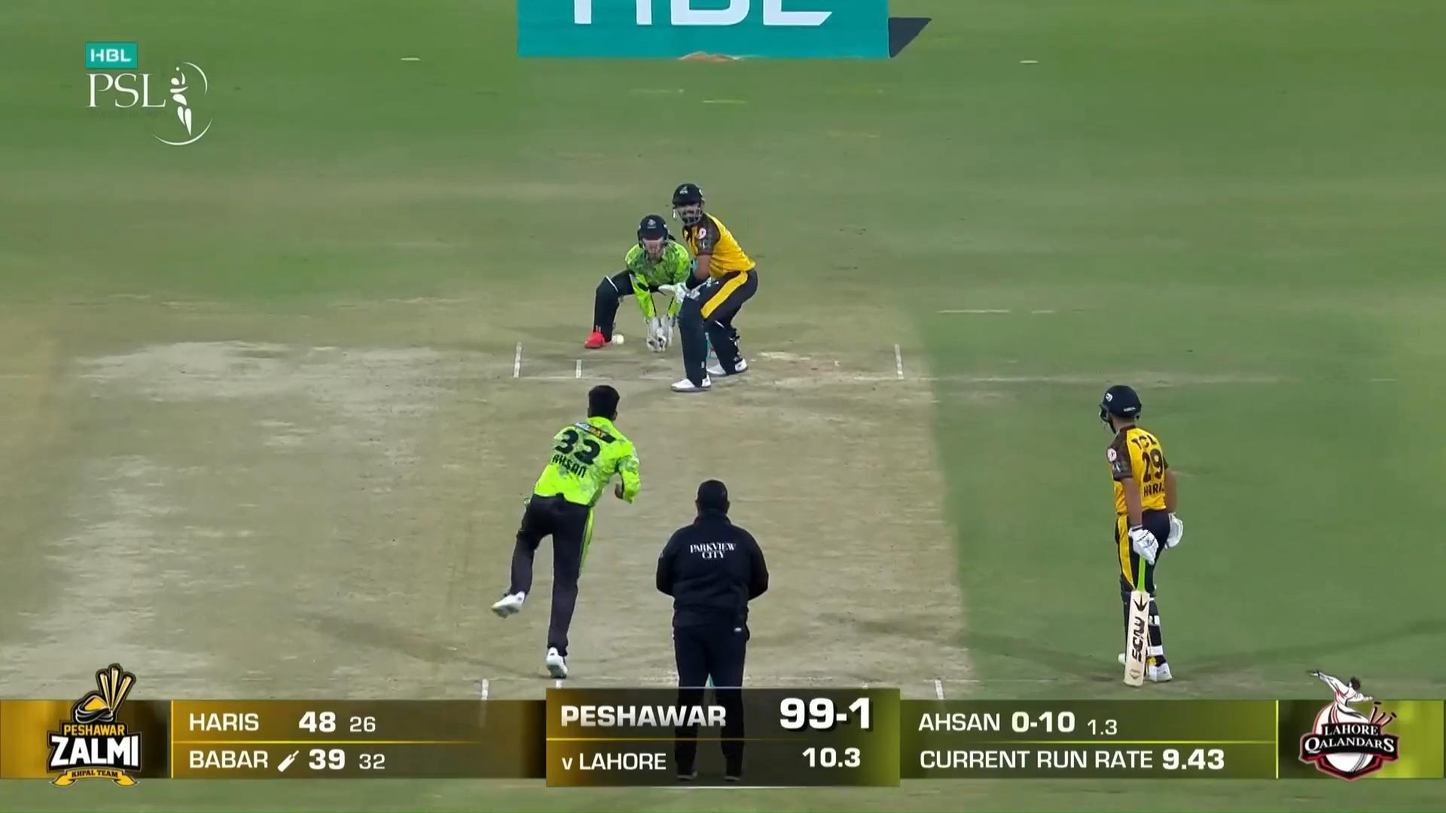batsman: (659, 182, 759, 393)
